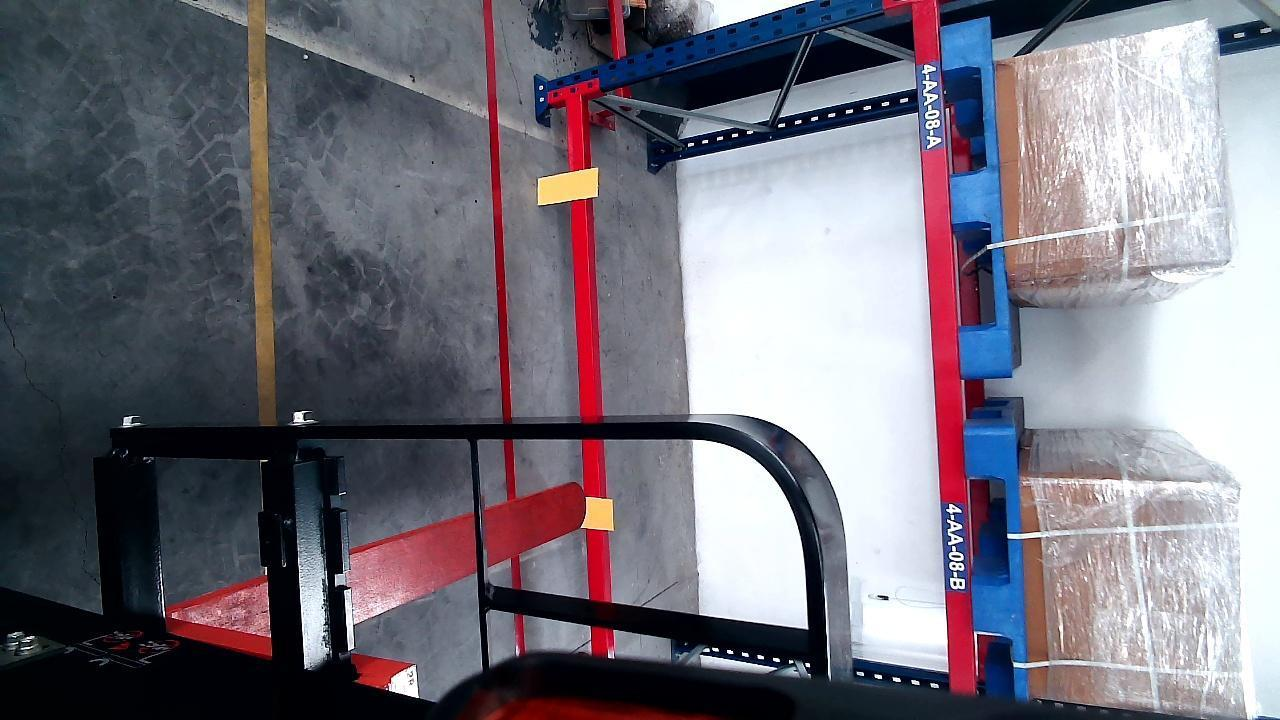h_rack: (918, 9, 973, 686), (572, 86, 604, 618)
orange_strip: (537, 168, 598, 204), (584, 496, 614, 529)
red_line: (482, 3, 514, 422)
small_pallet: (943, 13, 1008, 372), (969, 428, 1027, 692)
yellow_line: (249, 0, 276, 413)
